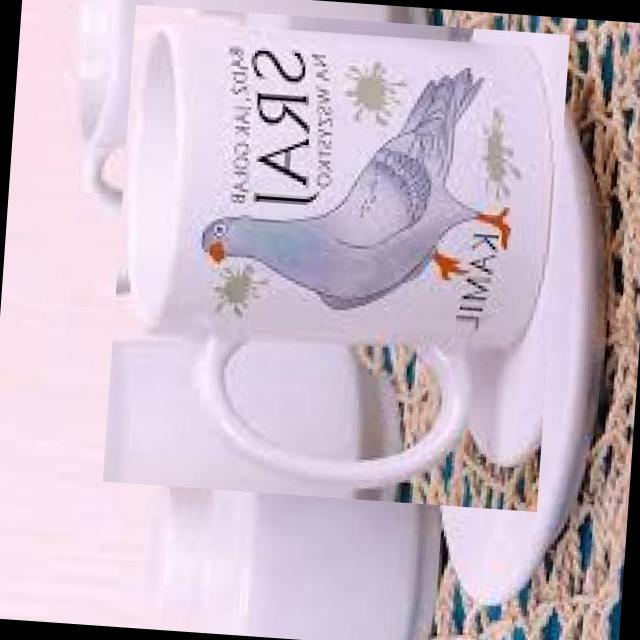Coffee Mug: (114, 20, 558, 495)
